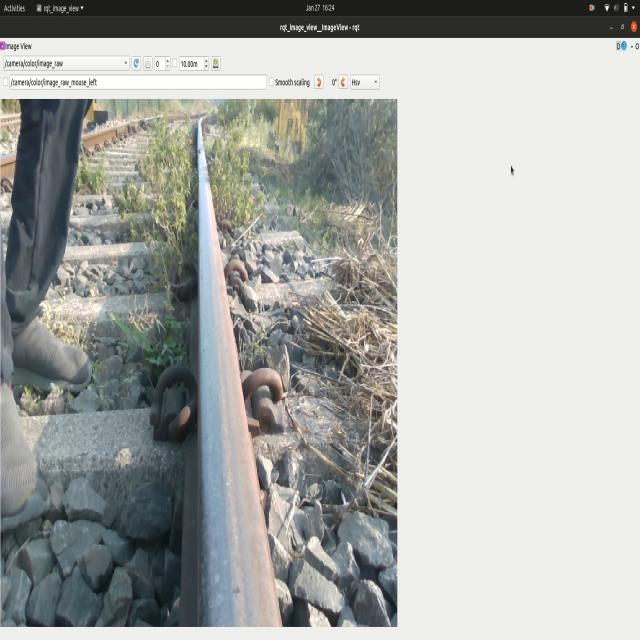underrailed: (238, 356, 317, 466)
